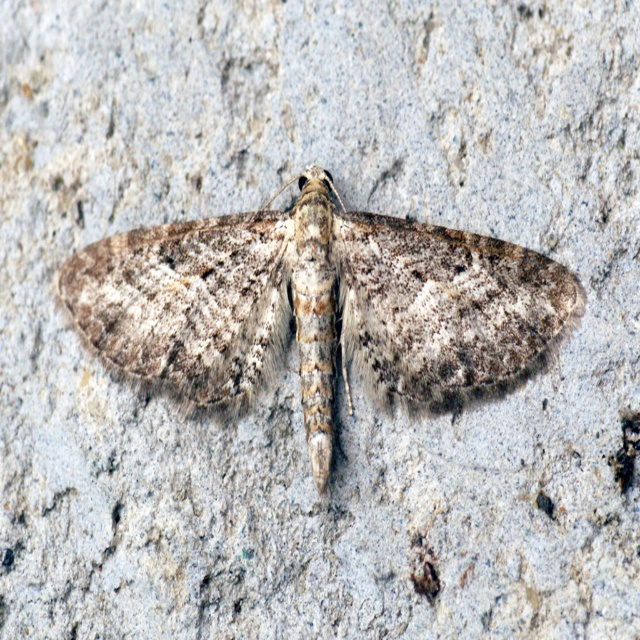Moths and butterflies: (60, 165, 586, 498)
